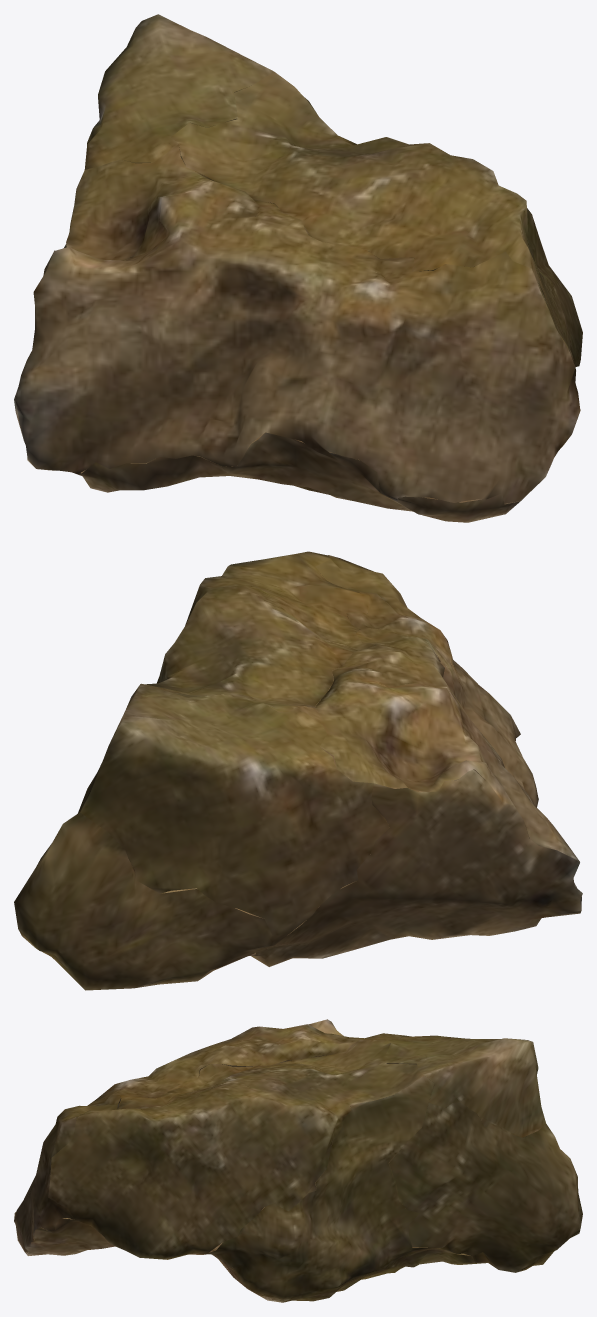
The model's file is scanned_boulder5.glb.
3 views of the same model, one above another, from view 1: azimuth 30°, elevation 25°; view 2: azimuth 150°, elevation 25°; view 3: azimuth 270°, elevation 25° (orthographic). The views are drawn at different scales.
Visible parts, largest first — view 1: scanned_boulder5; view 2: scanned_boulder5; view 3: scanned_boulder5.
Part boxes in pixels (left/top/right/bottom): scanned_boulder5: left=14, top=14, right=582, bottom=522; scanned_boulder5: left=14, top=551, right=582, bottom=990; scanned_boulder5: left=14, top=1019, right=582, bottom=1302.
Size of the model in its own units: 2.32 by 1.37 by 3.
1 material, 1 textured.
